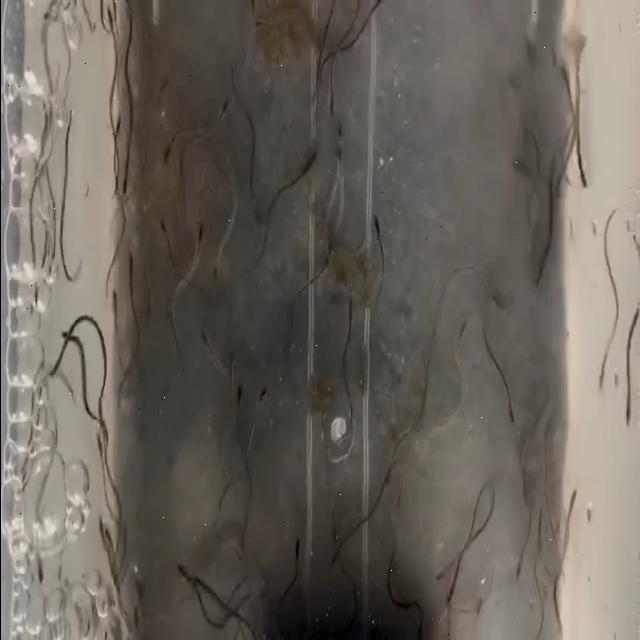active_glass_eel: (281, 529, 309, 587), (500, 389, 524, 439), (447, 312, 475, 350), (614, 396, 632, 446), (300, 144, 322, 184), (336, 116, 351, 169), (594, 360, 616, 396), (439, 583, 462, 617), (552, 54, 570, 96), (324, 72, 340, 119), (366, 202, 382, 248), (229, 386, 251, 419), (192, 217, 209, 255), (118, 166, 135, 204), (178, 143, 194, 183), (124, 245, 143, 278), (190, 325, 214, 351), (257, 371, 273, 409), (152, 211, 170, 243), (323, 234, 338, 272), (214, 91, 232, 121), (433, 548, 447, 585), (567, 484, 584, 512), (95, 418, 111, 446), (323, 544, 340, 570), (108, 284, 120, 320), (411, 615, 426, 640), (160, 144, 172, 174), (226, 348, 238, 376), (344, 278, 353, 314), (212, 243, 224, 270)
